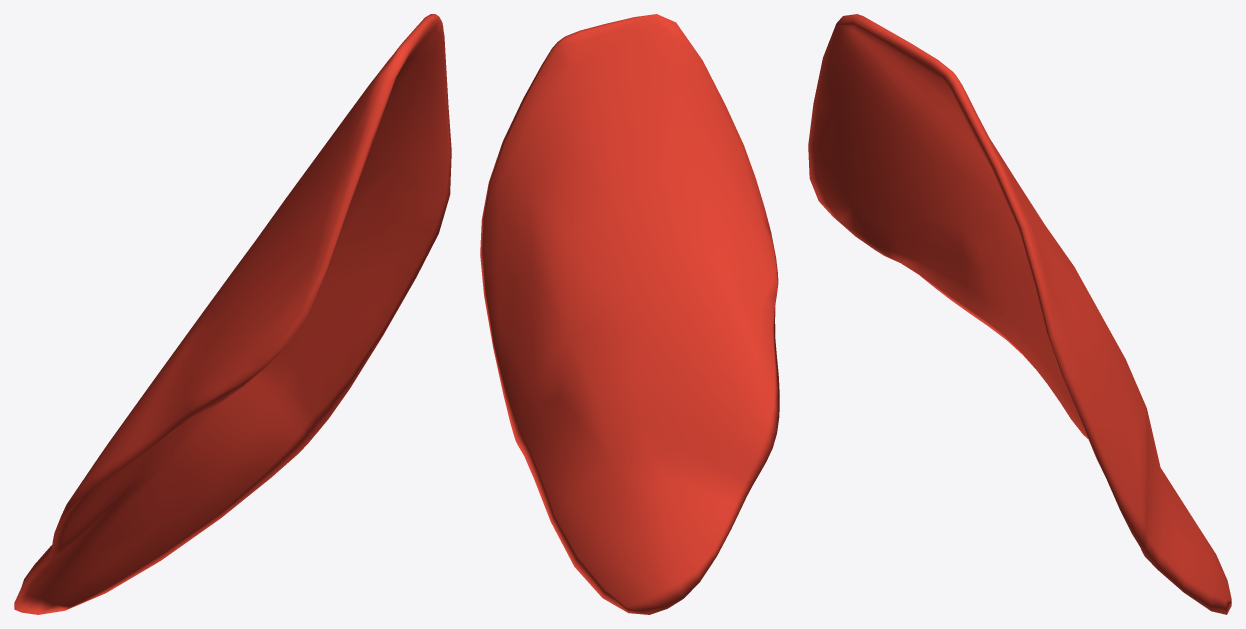
The model's file is Gastrocnemius_medial_head_supracondylar_tubercle_002.glb.
3 renders of one model, left to right at view 1: azimuth 30°, elevation 25°; view 2: azimuth 150°, elevation 25°; view 3: azimuth 270°, elevation 25°, orthographic. The views are drawn at different scales.
Visible parts, largest first — view 1: Medial_head_of_gastrocnemius_on_med._supracondylar_tubercle_; view 2: Medial_head_of_gastrocnemius_on_med._supracondylar_tubercle_; view 3: Medial_head_of_gastrocnemius_on_med._supracondylar_tubercle_.
Boxes of the visible parts, left/top/right/bottom form: Medial_head_of_gastrocnemius_on_med._supracondylar_tubercle_: left=14, top=14, right=451, bottom=614; Medial_head_of_gastrocnemius_on_med._supracondylar_tubercle_: left=480, top=14, right=779, bottom=614; Medial_head_of_gastrocnemius_on_med._supracondylar_tubercle_: left=808, top=14, right=1231, bottom=614.
Bounding box in the file's own units: 0.0166 × 0.0264 × 0.0153.
